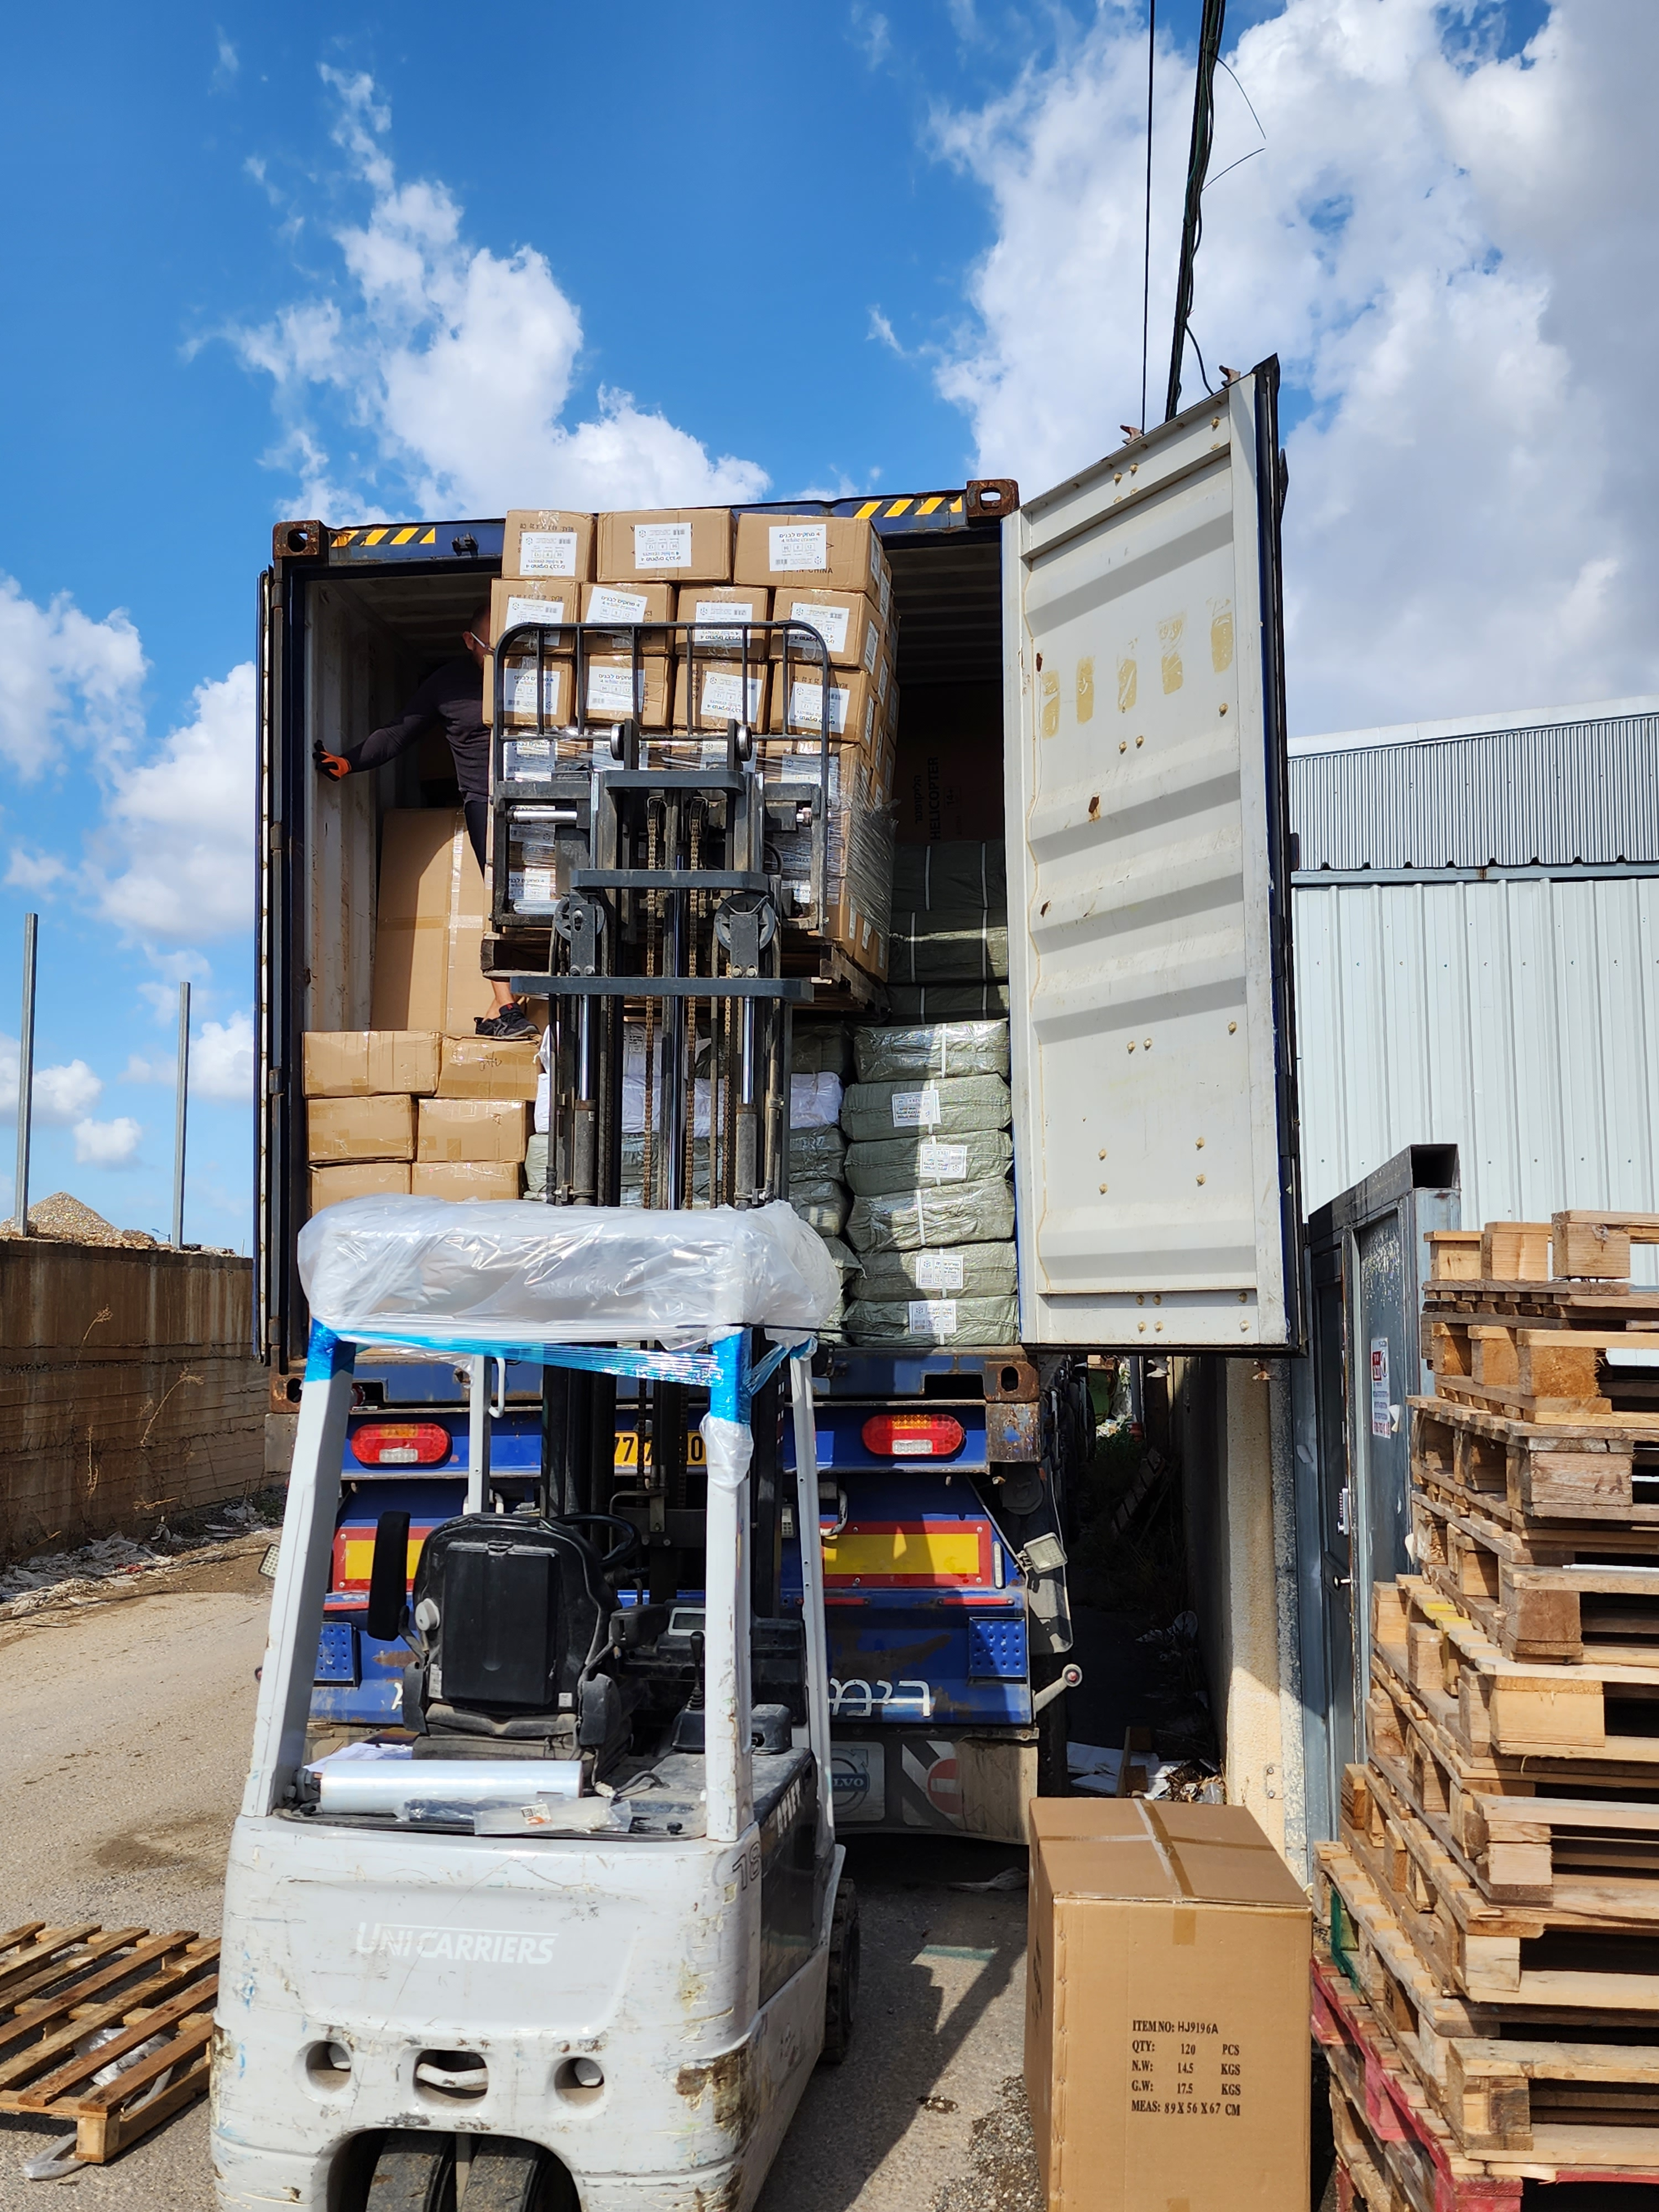box: (570, 477, 737, 592), (718, 491, 896, 589), (444, 488, 591, 578), (298, 1012, 444, 1092)
